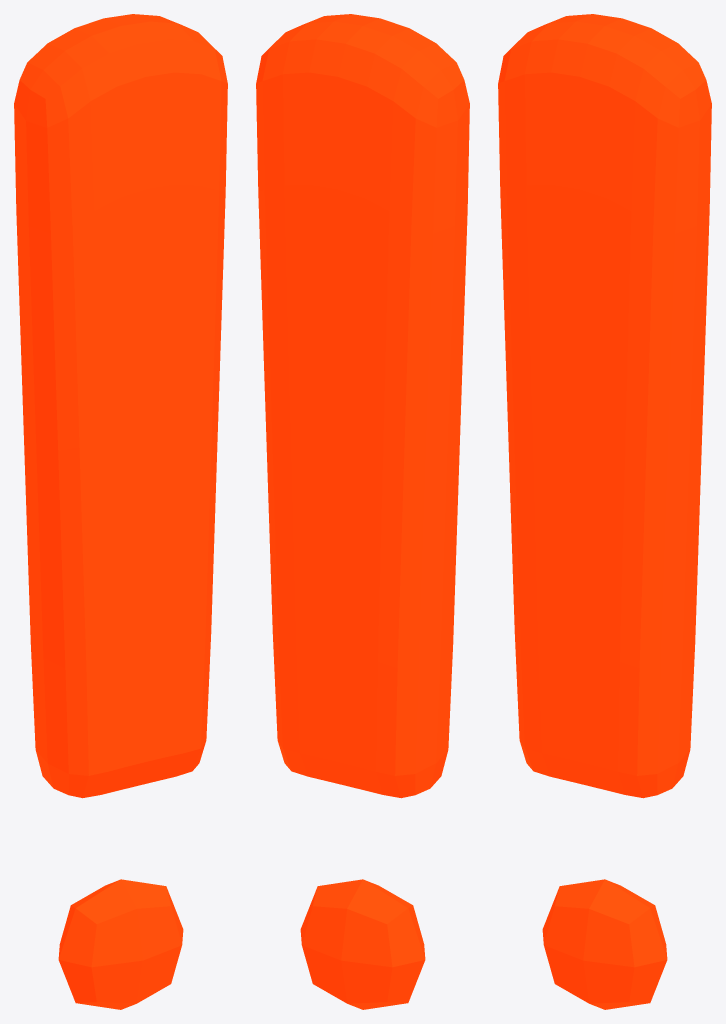
File: Advertencia.fbx
The picture shows the model from 3 angles, left to right: view 1: azimuth 30°, elevation 25°; view 2: azimuth 150°, elevation 25°; view 3: azimuth 330°, elevation 25°; orthographic projection.
Parts seen in each view (by area): view 1: Cube.001; view 2: Cube.001; view 3: Cube.001.
Boxes of the visible parts, x1=… form: Cube.001: x1=14, y1=14, x2=227, y2=1009; Cube.001: x1=256, y1=14, x2=469, y2=1009; Cube.001: x1=498, y1=14, x2=711, y2=1009.
Bounding box in the file's own units: 40.39 × 200 × 19.16.
